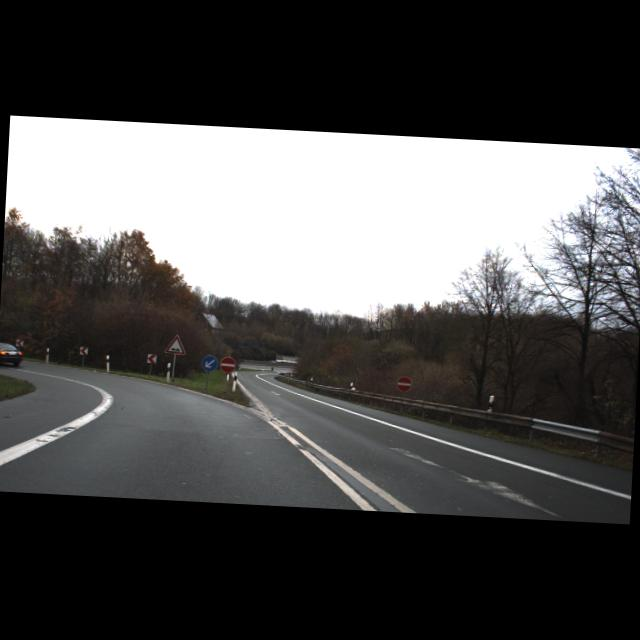danger: (164, 334, 187, 355)
mandatory: (202, 354, 220, 372)
other: (220, 356, 237, 374), (396, 376, 413, 393)
